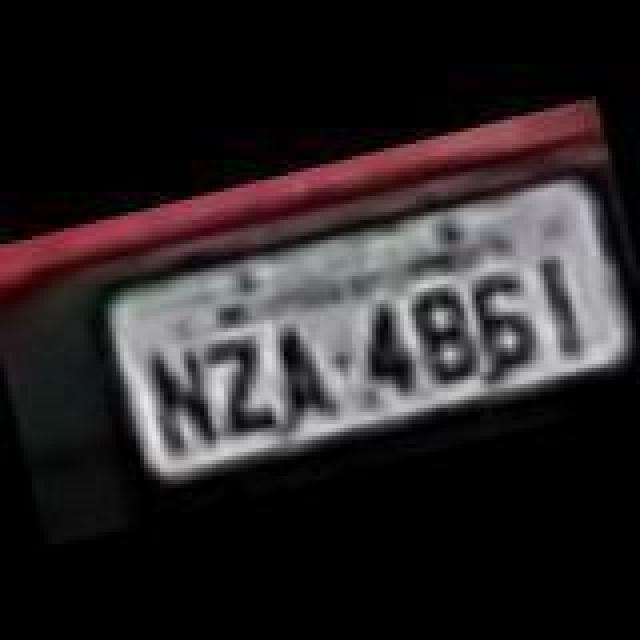1: (530, 252, 590, 356)
4: (344, 294, 424, 402)
6: (464, 264, 544, 376)
8: (408, 282, 488, 390)
A: (260, 310, 340, 426)
N: (142, 342, 226, 458)
Z: (200, 326, 280, 442)
